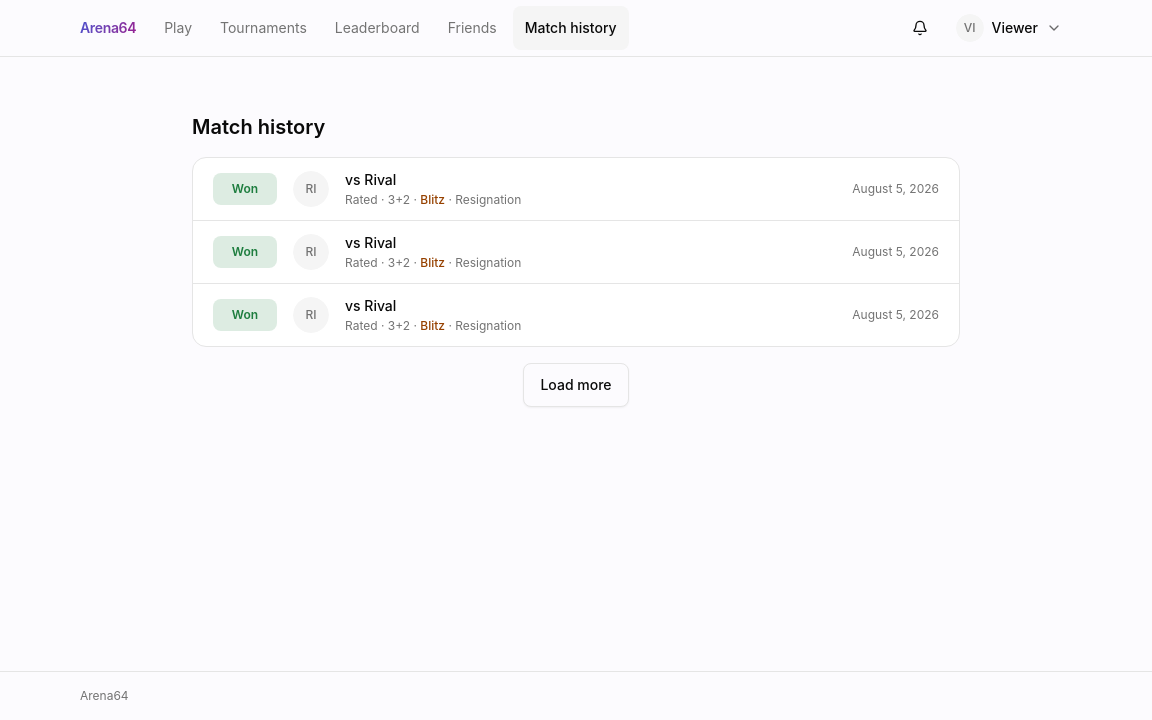
Test: pages through the cursor, showing every match once and asking nothing per row
Click the button "Load more": coordinates (576, 385) [523,363,628,407]
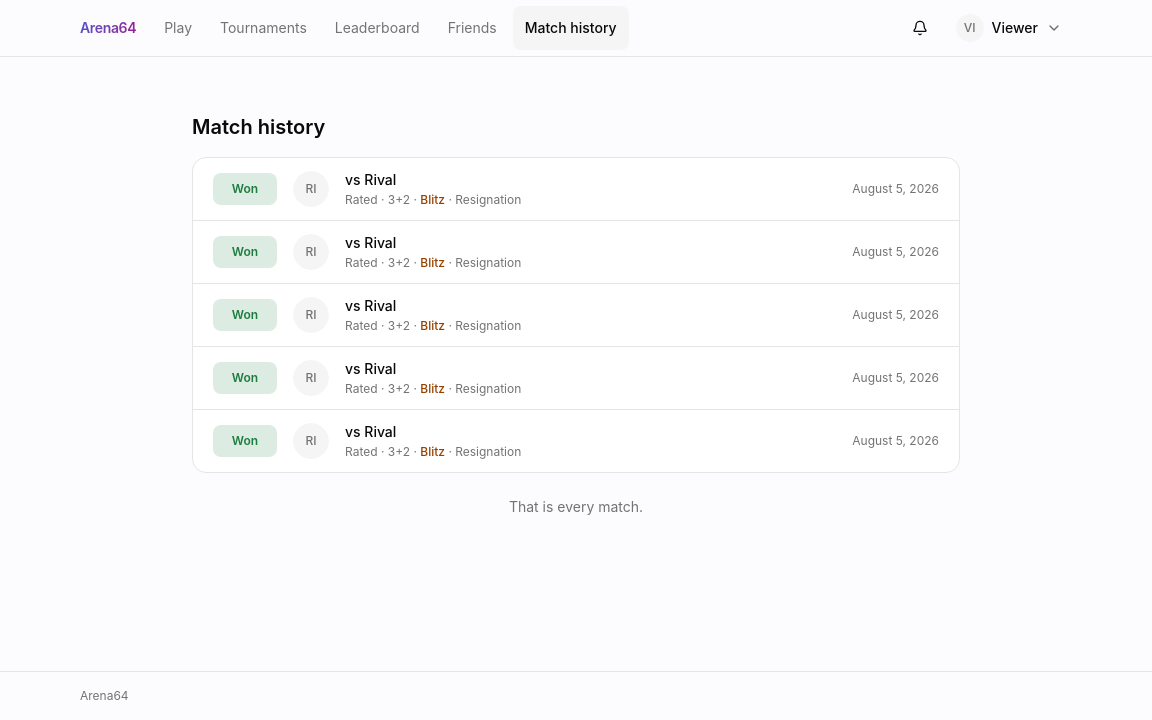
Now the number of links named "replay the match" is 5, box [345,171,396,188]; [345,234,396,251]; [345,297,396,314]; [345,360,396,377]; [345,423,396,440]
Now the button "Load more" is gone
Now the text "That is every match." is shown, box [509,498,643,515]
